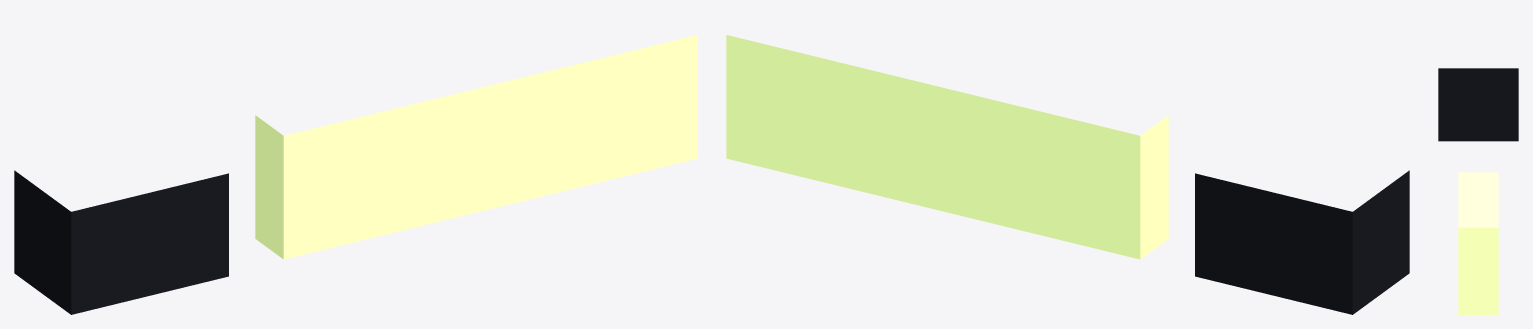
Rendered from meepo.glb.
3 renders of one model, left to right at view 1: azimuth 30°, elevation 25°; view 2: azimuth 150°, elevation 25°; view 3: azimuth 270°, elevation 25°, orthographic. The views are drawn at different scales.
Parts seen in each view (by area): view 1: meepo-edge, meepo-grip; view 2: meepo-edge, meepo-grip; view 3: meepo-grip, meepo-edge.
Boxes of the visible parts, x1=… form: meepo-edge: x1=255, y1=35, x2=697, y2=259; meepo-grip: x1=14, y1=170, x2=228, y2=314; meepo-edge: x1=726, y1=35, x2=1168, y2=259; meepo-grip: x1=1195, y1=170, x2=1409, y2=314; meepo-grip: x1=1438, y1=68, x2=1518, y2=141; meepo-edge: x1=1458, y1=172, x2=1498, y2=314.
Size of the model in its own units: 0.65 by 0.12 by 0.1.
